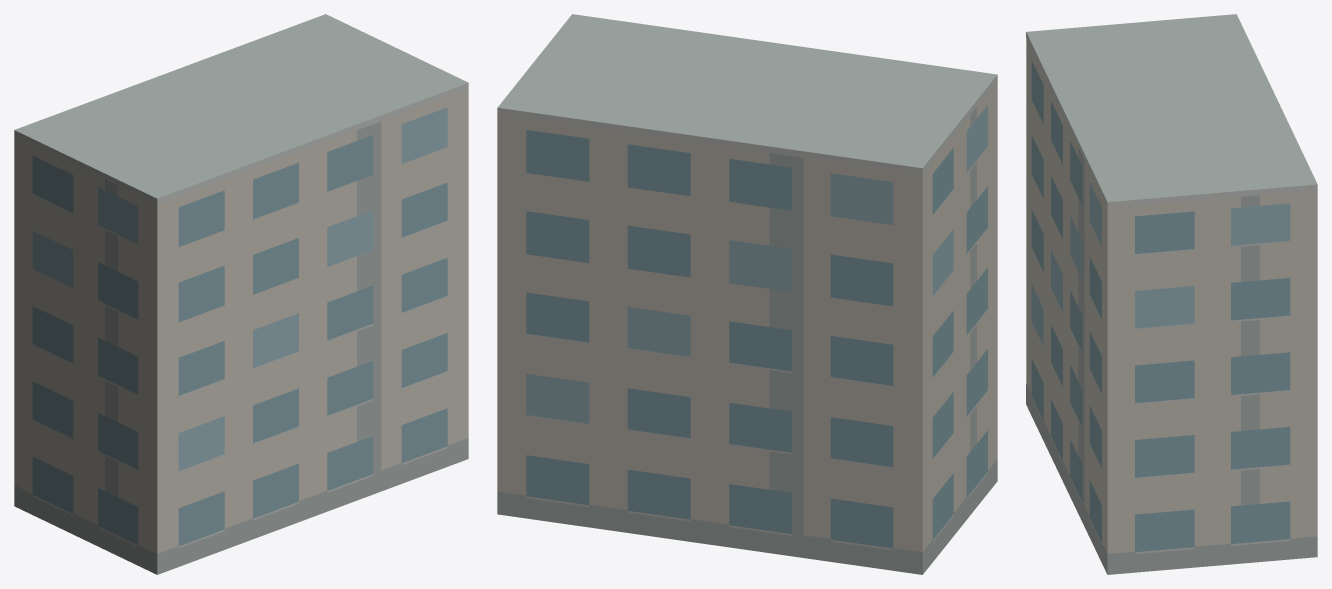
Rendered from residential-4f5dcda9-03d9-4370-b9f4-18ae51ff8f9c.glb.
The picture shows the model from 3 angles, left to right: view 1: azimuth 30°, elevation 25°; view 2: azimuth 150°, elevation 25°; view 3: azimuth 270°, elevation 25°; orthographic projection. The views are drawn at different scales.
Visible parts, largest first — view 1: residential-4f5dcda9-03d9-4370-b9f4-18ae51ff8f9c.tmp; view 2: residential-4f5dcda9-03d9-4370-b9f4-18ae51ff8f9c.tmp; view 3: residential-4f5dcda9-03d9-4370-b9f4-18ae51ff8f9c.tmp.
Part boxes in pixels (x1,y1,x2,y2): residential-4f5dcda9-03d9-4370-b9f4-18ae51ff8f9c.tmp: (14, 14, 468, 574); residential-4f5dcda9-03d9-4370-b9f4-18ae51ff8f9c.tmp: (497, 14, 997, 574); residential-4f5dcda9-03d9-4370-b9f4-18ae51ff8f9c.tmp: (1026, 14, 1317, 574).
Size of the model in its own units: 16.52 by 15.25 by 10.82.
